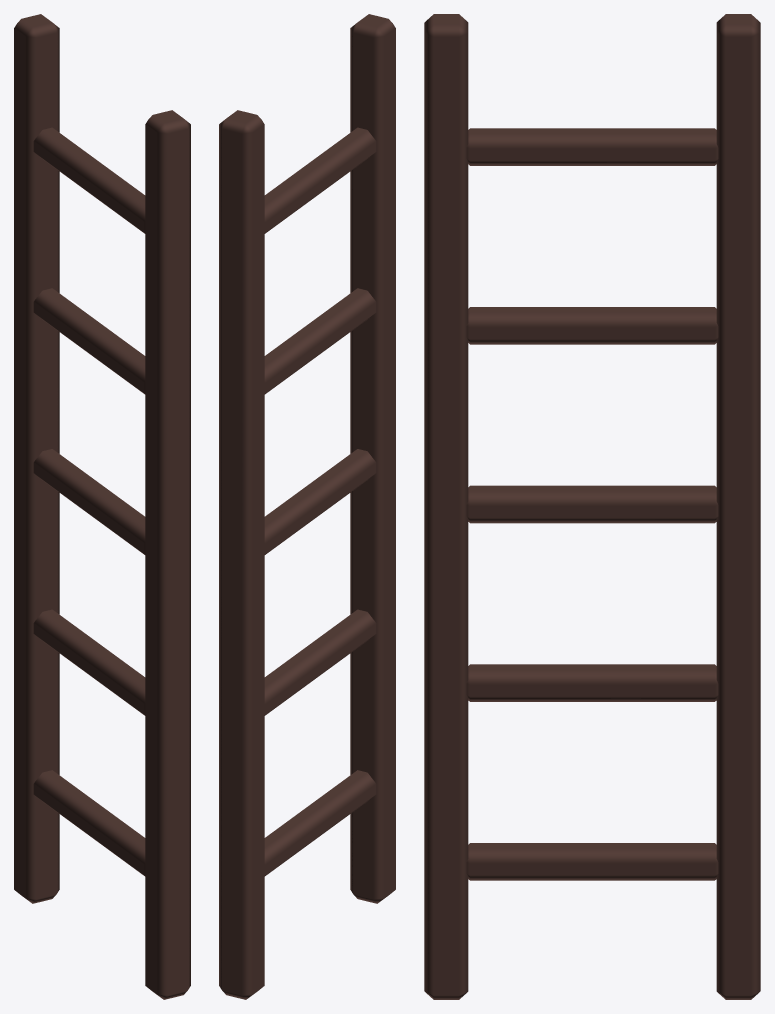
Rendered from lADDER.fbx.
3 renders of one model, left to right at view 1: azimuth 30°, elevation 25°; view 2: azimuth 150°, elevation 25°; view 3: azimuth 270°, elevation 25°, orthographic. The views are drawn at different scales.
Visible parts, largest first — view 1: Cube.022, Cube.023; view 2: Cube.022, Cube.023; view 3: Cube.022, Cube.023.
Boxes of the visible parts, x1=… form: Cube.022: x1=14, y1=14, x2=190, y2=999; Cube.023: x1=33, y1=127, x2=145, y2=876; Cube.022: x1=219, y1=14, x2=395, y2=999; Cube.023: x1=264, y1=127, x2=376, y2=876; Cube.022: x1=424, y1=14, x2=760, y2=999; Cube.023: x1=466, y1=128, x2=718, y2=880.
Bounding box in the file's own units: 38.36 × 938 × 293.
